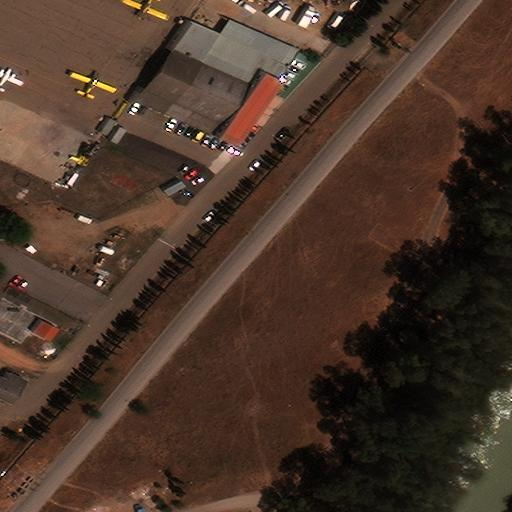Medium Civil Transport: (121, 0, 166, 21)
Small Civil Transport: (71, 71, 117, 97), (0, 67, 23, 89)
